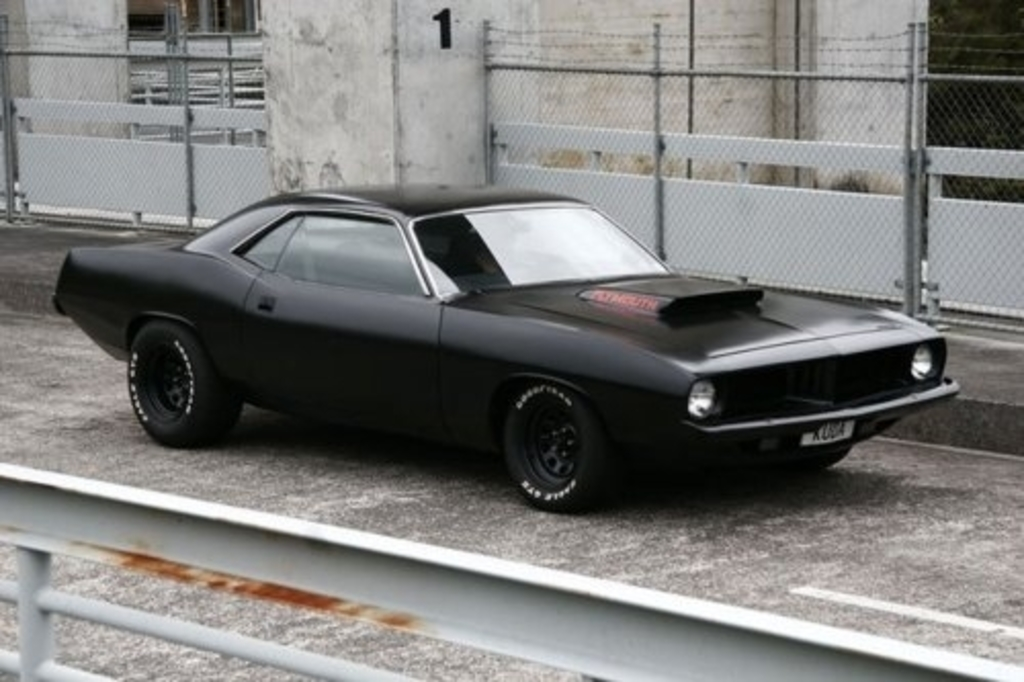mobil: (47, 163, 959, 517)
